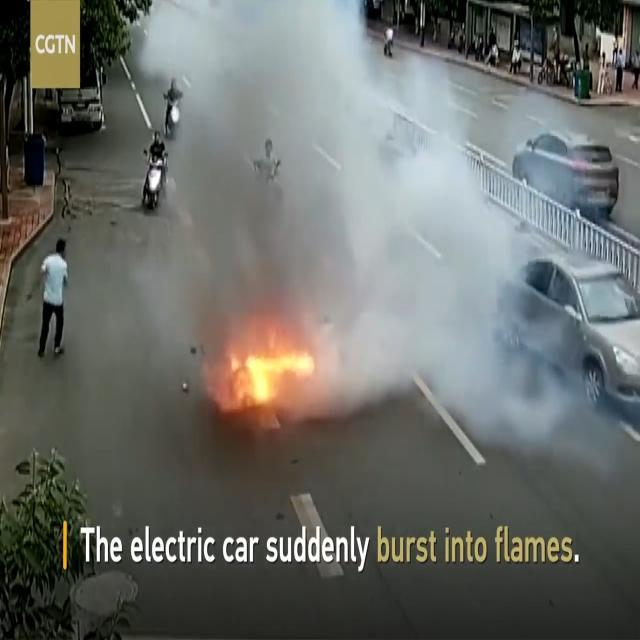Fire: (204, 327, 314, 414)
Smoke: (140, 0, 566, 440)
